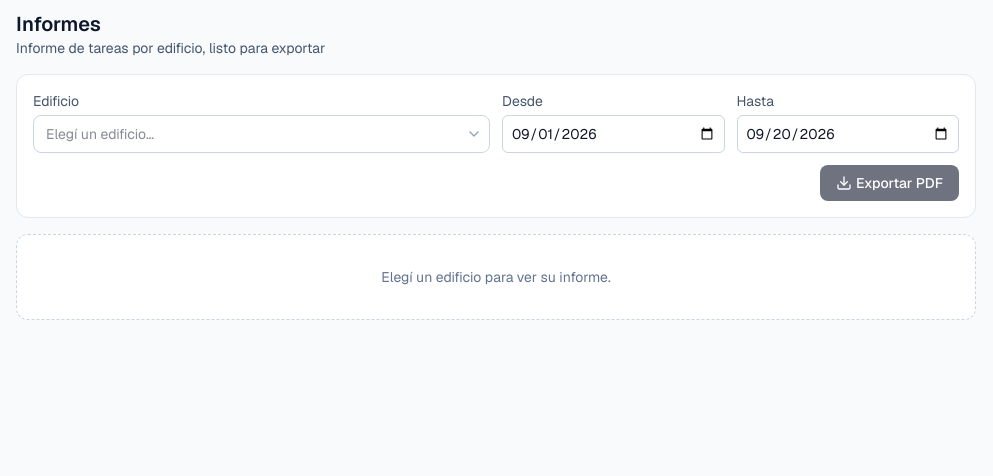
it: InformeEdificio › avisa cuando el edificio no tiene tareas en el rango
Click the dropdown labelled "Edificio" at point(262, 134), box x1=33 y1=115 x2=490 y2=153
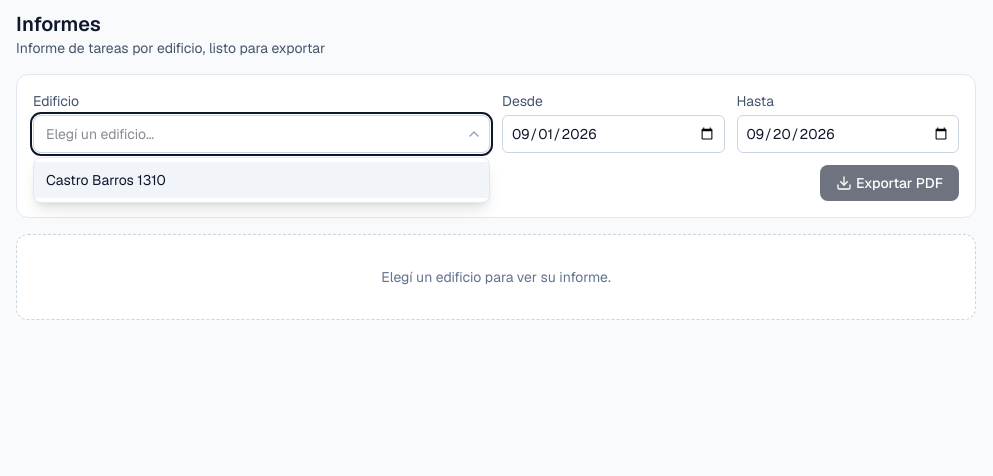
Click the option "Castro Barros 1310" at point(106, 180), box x1=34 y1=162 x2=489 y2=198
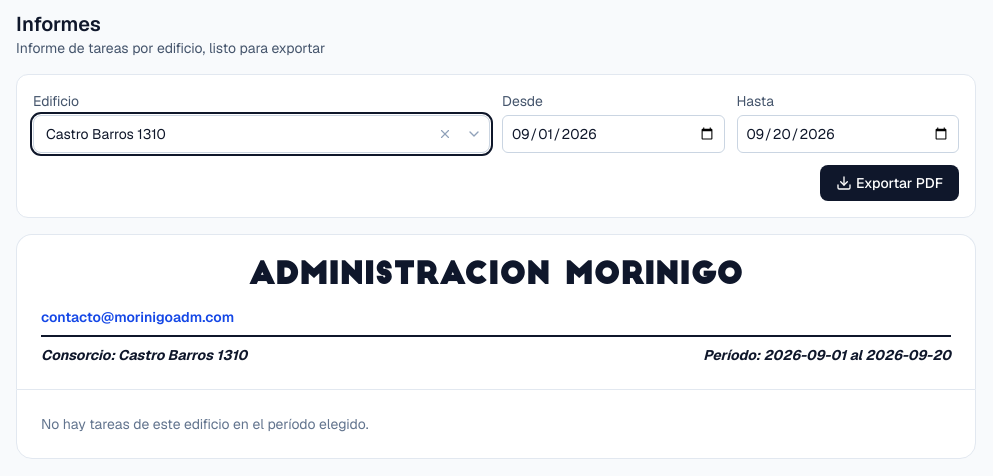
Expected: the text "No hay tareas de este edificio en el período elegido." is shown, x1=41 y1=415 x2=369 y2=433
